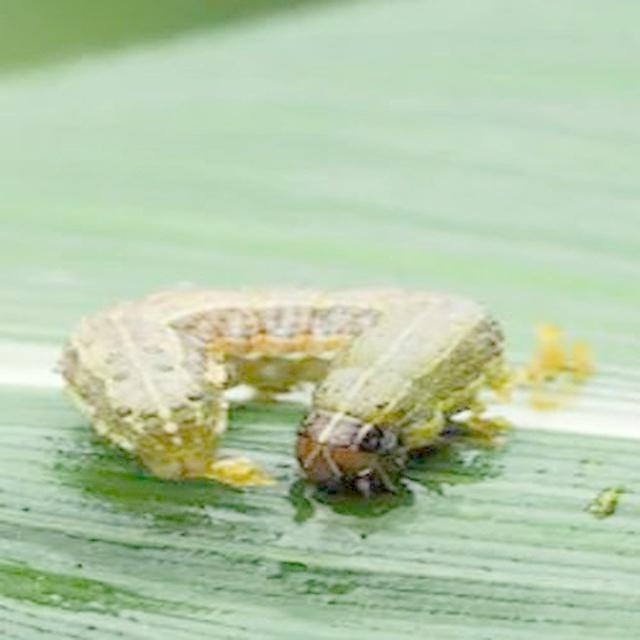gusano_cogollero: (57, 285, 495, 502)
